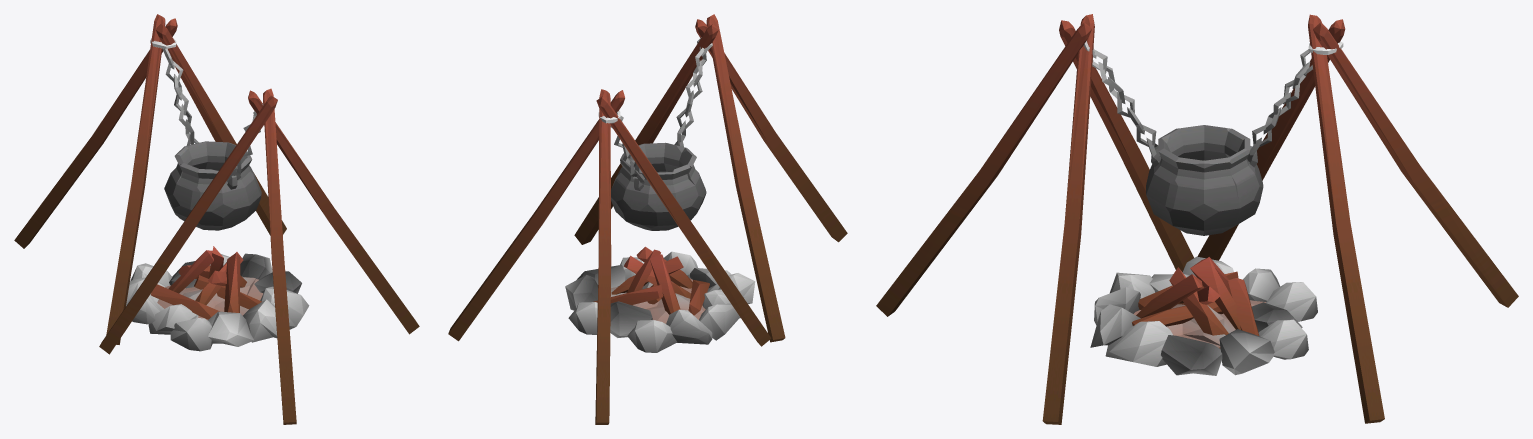
3 renders of one model, left to right at view 1: azimuth 30°, elevation 25°; view 2: azimuth 150°, elevation 25°; view 3: azimuth 270°, elevation 25°, orthographic. The views are drawn at different scales.
Parts seen in each view (by area): view 1: CookingFireplace; view 2: CookingFireplace; view 3: CookingFireplace.
Part boxes in pixels (x1,y1,x2,y2): CookingFireplace: [14, 14, 419, 424]; CookingFireplace: [448, 14, 847, 424]; CookingFireplace: [876, 14, 1518, 424].
Size of the model in its own units: 125 by 120 by 215.
1 material, 1 textured.
